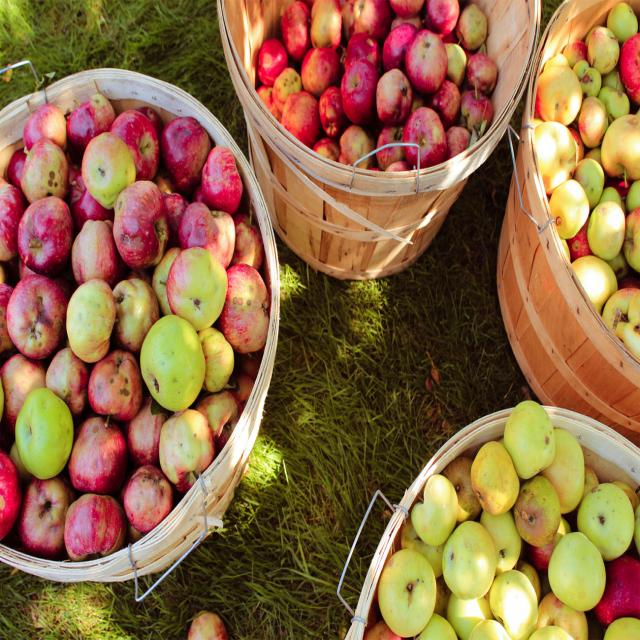Apple: (139, 311, 210, 414), (3, 264, 69, 359), (10, 390, 76, 484), (222, 245, 271, 364), (115, 164, 167, 268), (166, 240, 227, 326), (155, 411, 220, 488), (379, 554, 437, 636), (541, 534, 603, 610), (176, 196, 244, 263), (16, 192, 74, 269), (63, 280, 116, 364), (505, 397, 557, 480), (21, 467, 67, 558), (441, 518, 492, 596), (67, 216, 127, 282), (466, 440, 521, 512), (62, 492, 130, 550), (530, 114, 581, 190), (409, 475, 460, 547), (74, 418, 123, 491), (114, 267, 162, 341), (577, 481, 638, 539), (164, 105, 206, 189), (14, 136, 70, 197), (392, 108, 446, 171), (126, 454, 172, 526), (200, 140, 247, 210), (87, 353, 140, 415), (80, 136, 134, 196), (113, 106, 161, 173), (539, 57, 587, 120), (584, 192, 626, 263), (600, 107, 640, 181), (403, 28, 448, 93), (194, 325, 236, 394), (342, 58, 381, 129), (520, 479, 560, 547), (497, 566, 538, 632), (567, 248, 615, 304), (334, 120, 378, 179), (279, 87, 320, 149), (557, 421, 583, 514), (548, 175, 588, 233), (19, 102, 70, 146), (576, 77, 608, 145), (313, 76, 346, 141), (487, 510, 523, 568), (278, 0, 312, 61), (296, 46, 343, 90), (606, 280, 640, 339), (455, 4, 495, 54), (584, 31, 625, 75), (453, 581, 491, 628), (428, 78, 468, 122), (465, 51, 504, 95), (379, 69, 412, 119), (254, 36, 286, 87), (310, 0, 342, 50), (352, 0, 393, 39), (0, 453, 18, 539), (619, 36, 640, 108), (621, 207, 640, 278), (576, 151, 604, 199), (610, 3, 638, 45), (426, 1, 462, 32), (605, 613, 640, 639), (401, 39, 417, 82), (380, 20, 400, 37)
